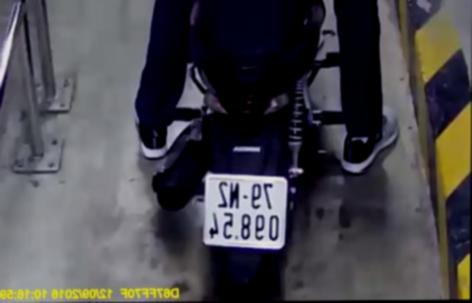License_Plate: (194, 167, 296, 254)
